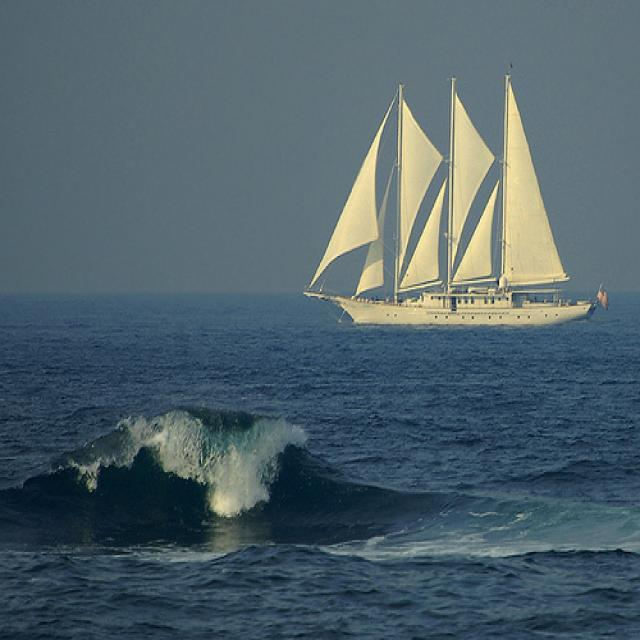Ship: (315, 83, 601, 331)
